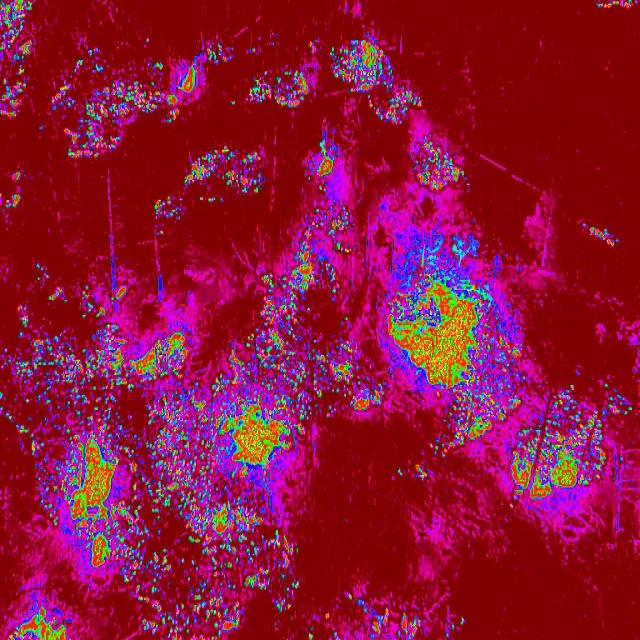fire: (29, 330, 306, 599), (388, 245, 522, 451), (508, 387, 634, 503), (276, 212, 362, 328), (329, 38, 428, 122), (59, 56, 129, 156), (310, 338, 386, 416), (182, 144, 266, 204), (125, 59, 203, 120), (0, 0, 32, 115), (243, 64, 310, 112), (414, 144, 466, 194), (10, 605, 70, 640)
